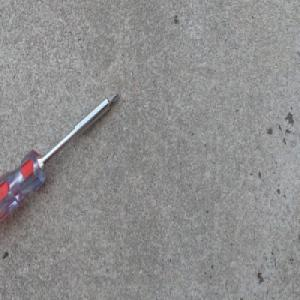Screwdriver: (0, 90, 120, 226)
